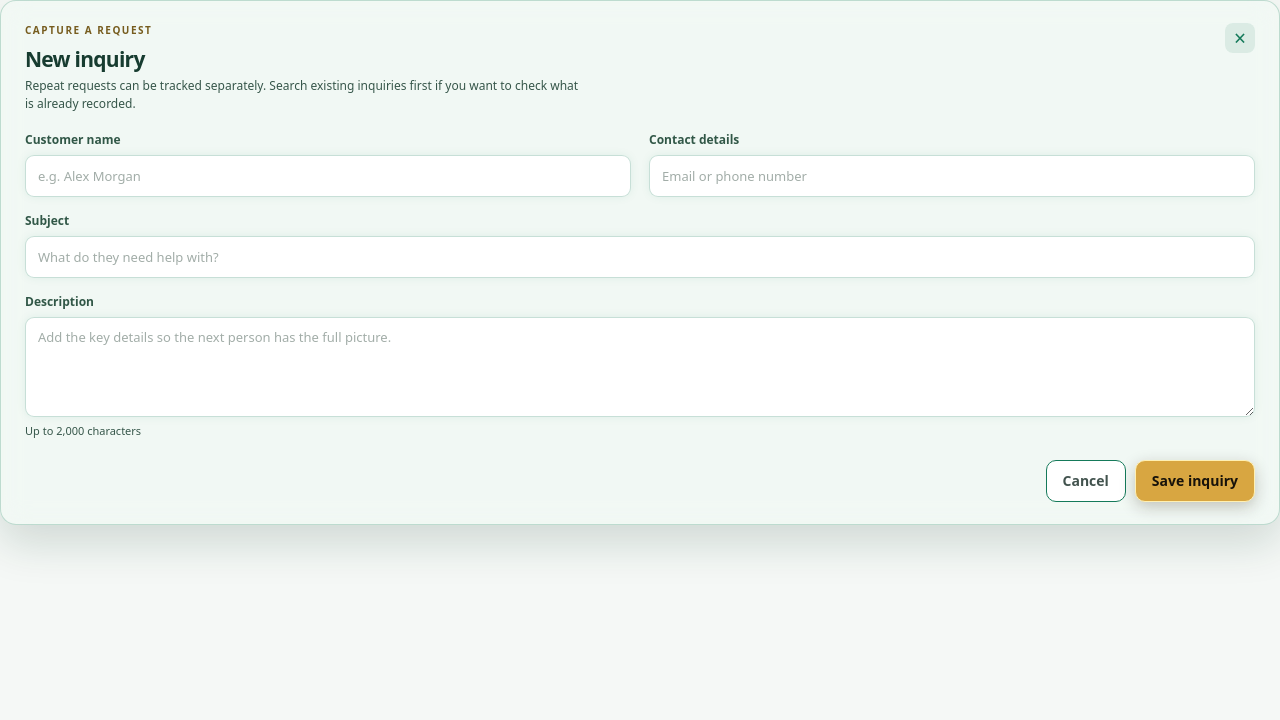
it: NewInquiryForm › shows a server validation error and leaves the form available to correct
The width and height of the screenshot is (1280, 720).
Type "Jordan Lee" into the field labelled "Customer name" at point(328, 176), box [25, 155, 631, 197]
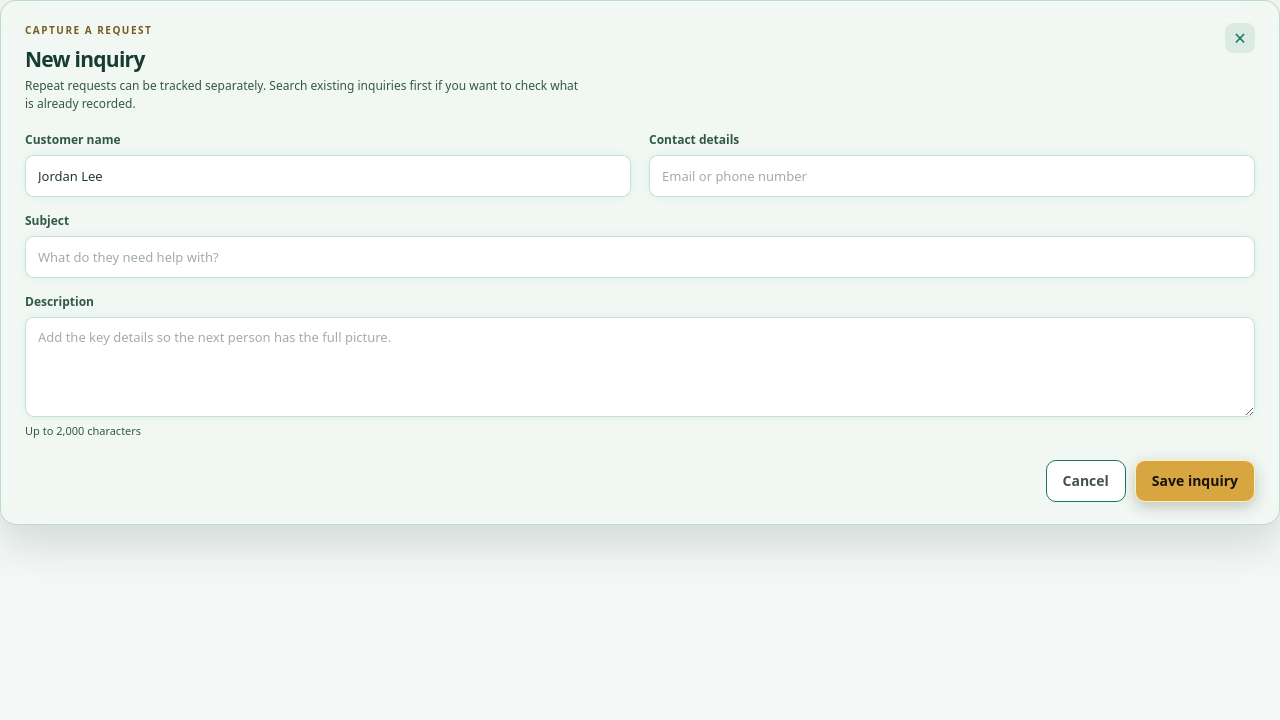
Type "jordan@example.com" into the field labelled "Contact details" at point(952, 176), box [649, 155, 1255, 197]
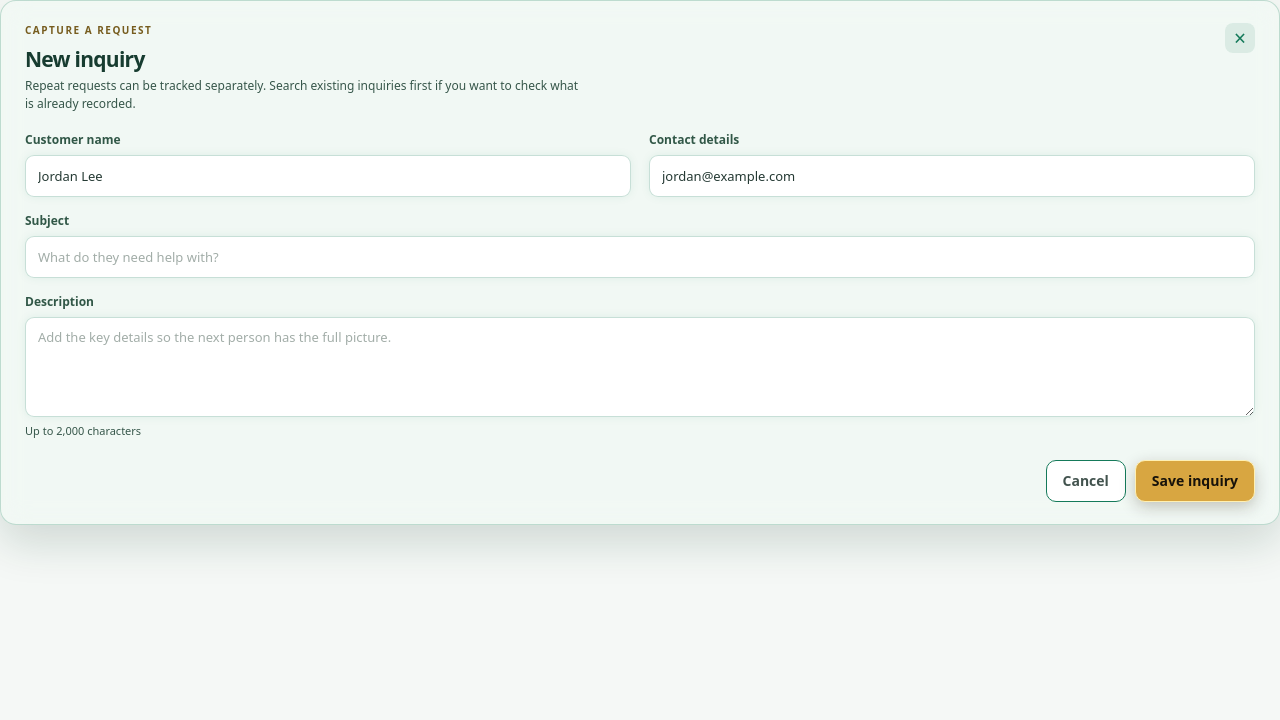
Type "Delivery question" into the field labelled "Subject" at point(640, 257), box [25, 236, 1255, 278]
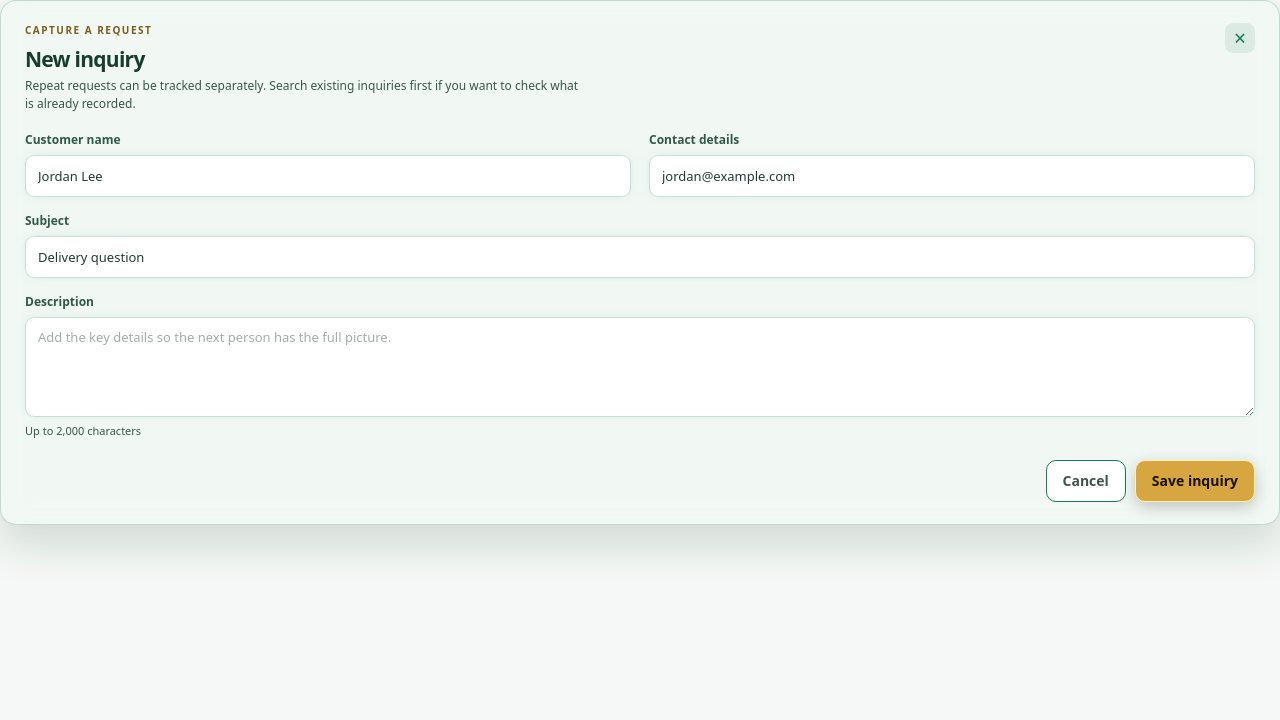
Type "The parcel has not arrived." into the text box labelled "Description" at point(640, 367), box [25, 317, 1255, 417]
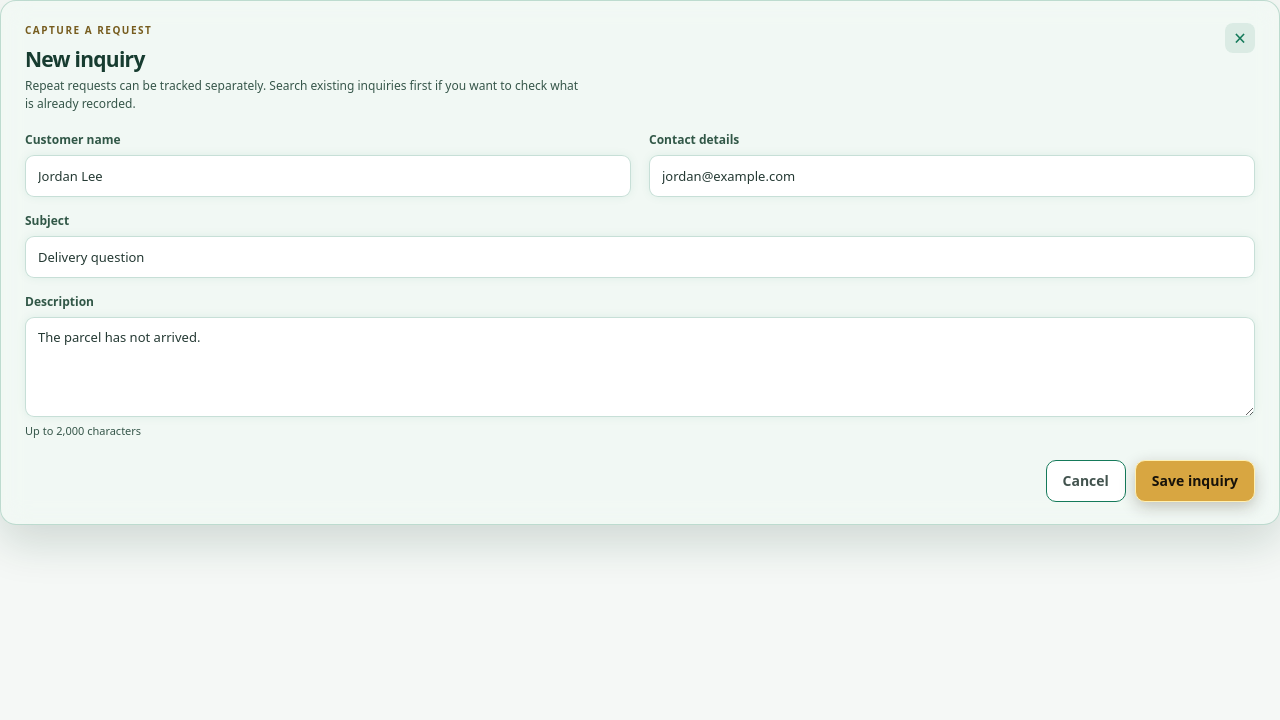
Submit the form, box [25, 131, 1255, 502]
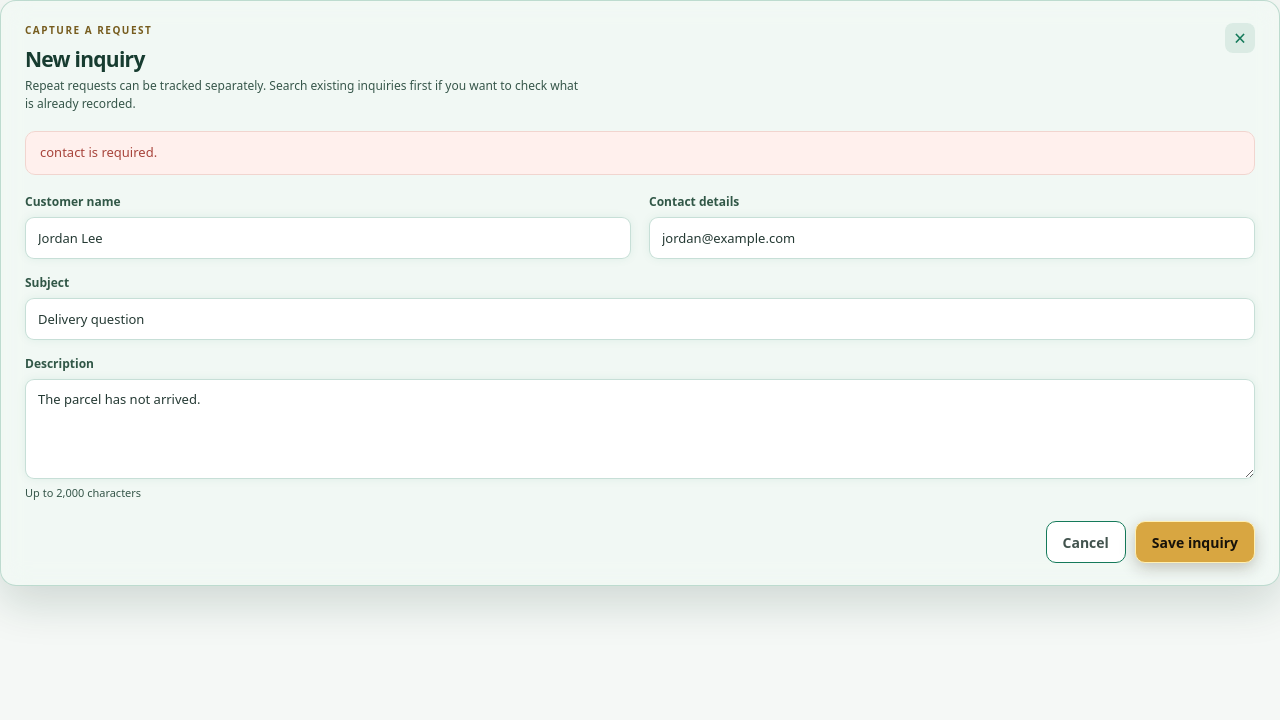
Expected: the button "Save inquiry" is enabled, [1135, 521, 1255, 563]
Expected: the message reads "contact is required.", [40, 143, 157, 161]
